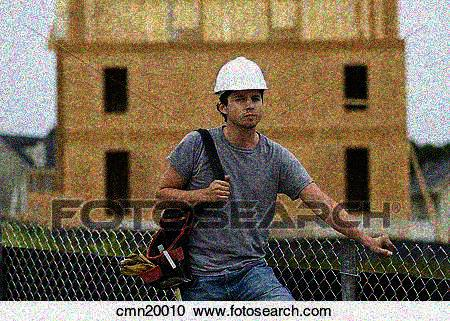helmet: (212, 55, 271, 129)
